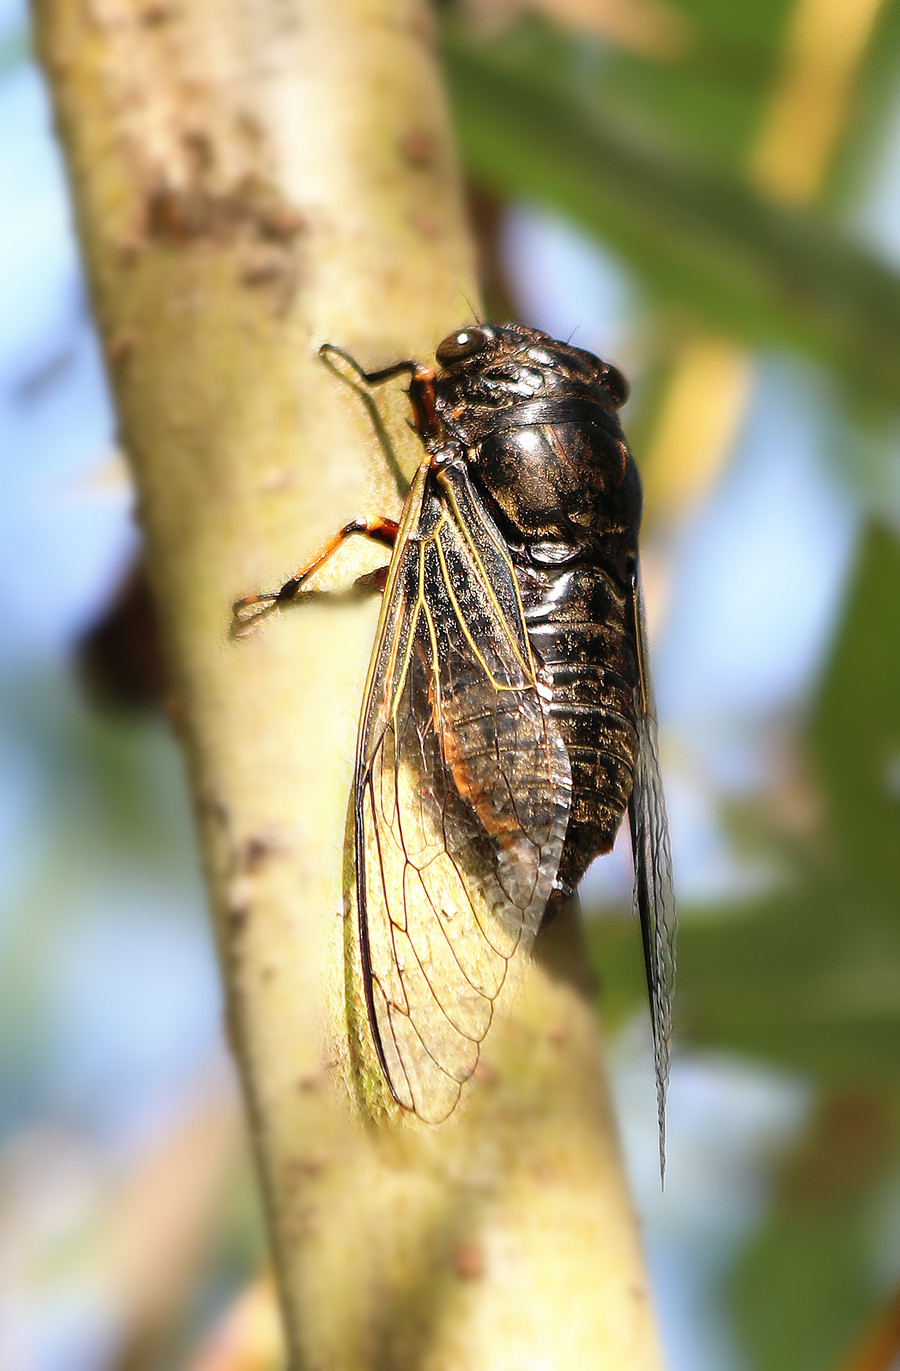chan: (307, 311, 706, 1124)
